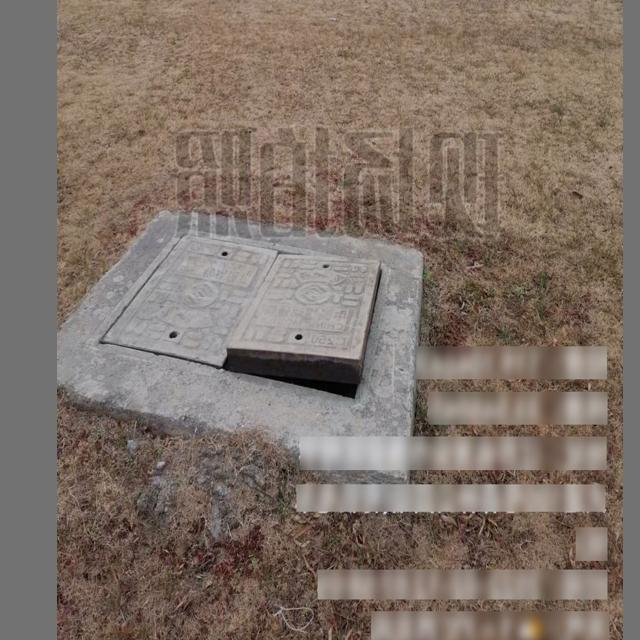uncovered: (91, 227, 389, 414)
